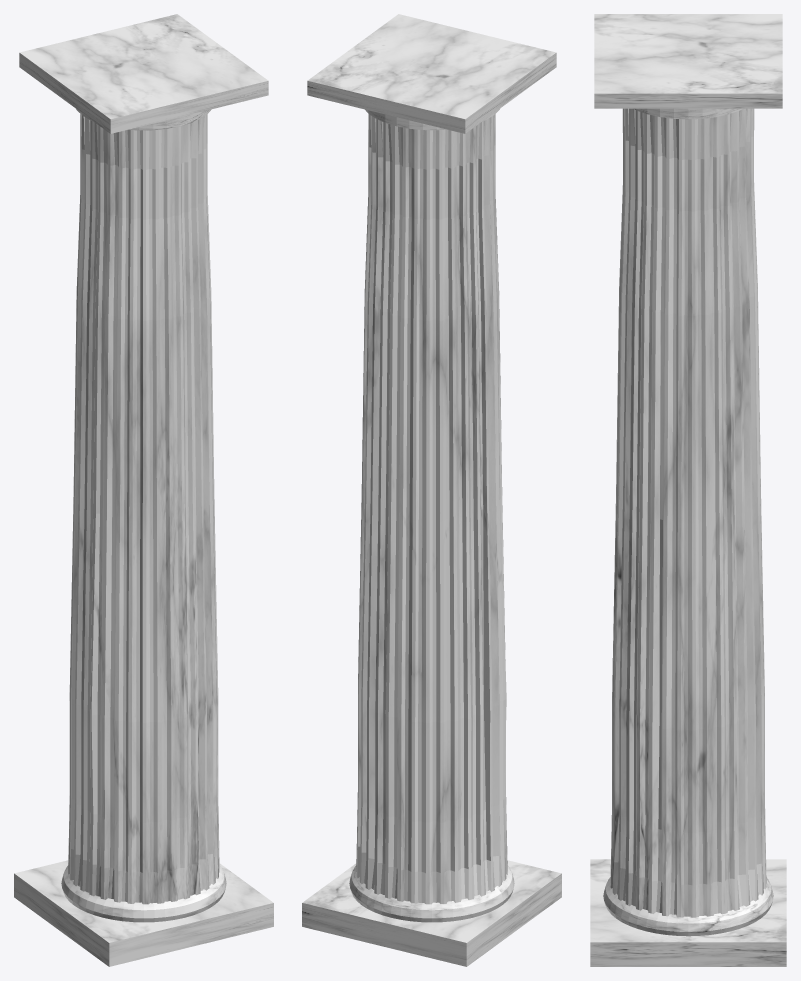
Rendered from greek_column.glb.
The picture shows the model from 3 angles, left to right: view 1: azimuth 30°, elevation 25°; view 2: azimuth 150°, elevation 25°; view 3: azimuth 270°, elevation 25°; orthographic projection. The views are drawn at different scales.
Parts seen in each view (by area): view 1: Cylinder_2; view 2: Cylinder_2; view 3: Cylinder_2.
Part boxes in pixels (<box>): Cylinder_2: <box>14,14,273,966</box>; Cylinder_2: <box>302,14,561,966</box>; Cylinder_2: <box>590,14,786,966</box>.
Size of the model in its own units: 2.97 by 14.58 by 2.97.
Materials: 1 (1 with a texture image).
